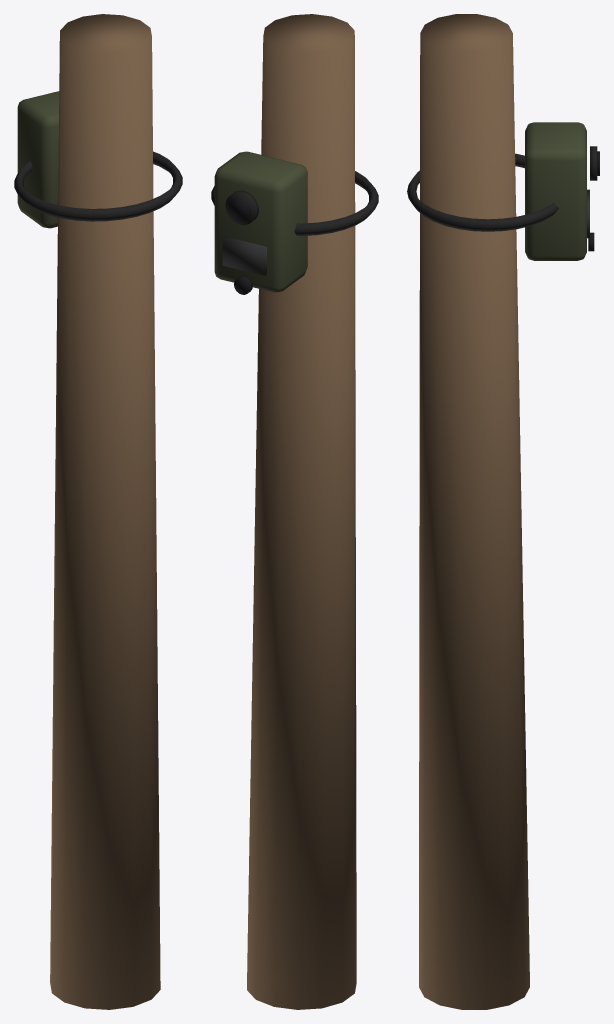
File: trailcam.glb
3 renders of one model, left to right at view 1: azimuth 30°, elevation 25°; view 2: azimuth 150°, elevation 25°; view 3: azimuth 270°, elevation 25°, orthographic.
Visible parts, largest first — view 1: post, cam, strap; view 2: post, cam, strap, ir, lens_ring, lens; view 3: post, cam, strap.
Boxes of the visible parts, <box> form: post: <box>50,14,160,1009</box>; cam: <box>17,91,59,228</box>; strap: <box>14,151,182,221</box>; post: <box>247,14,356,1009</box>; cam: <box>214,151,307,292</box>; strap: <box>211,171,378,235</box>; ir: <box>222,236,266,275</box>; lens_ring: <box>225,190,258,225</box>; lens: <box>228,197,250,221</box>; post: <box>419,14,529,1009</box>; cam: <box>525,122,586,260</box>; strap: <box>407,153,558,231</box>.
Size of the model in its own units: 0.276 by 1.7 by 0.3121.
